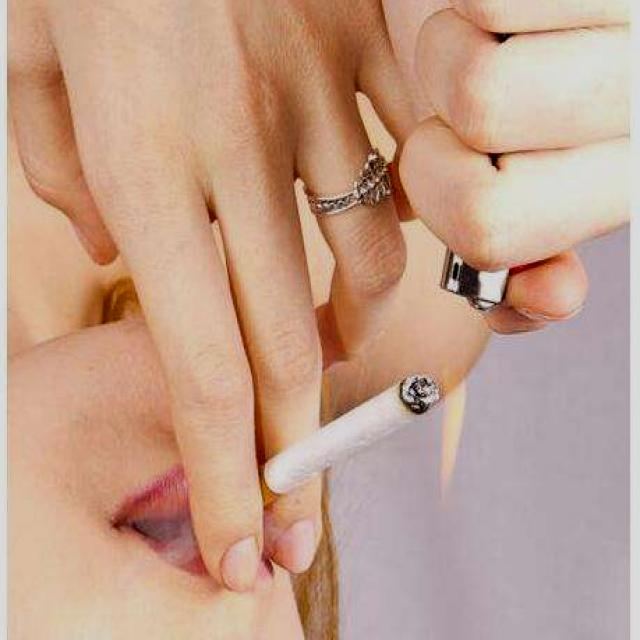smoke: (248, 345, 446, 537)
